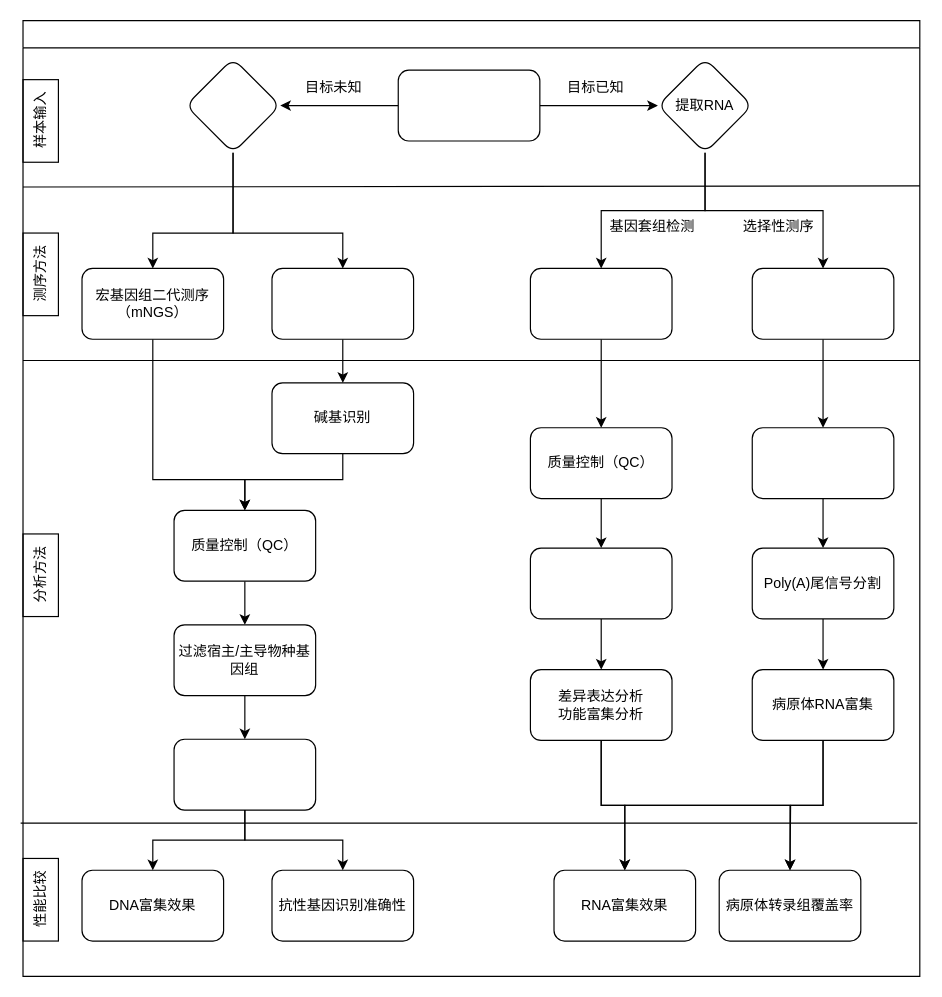
The diagram is 942 pixels wide and 997 high, and some of its shapes have lost their labels. Here are the shapes that lost their labels. From the top down, the box of each, then its label:
(185, 57, 280, 153): 提取DNA
(397, 69, 540, 141): 待测样本
(271, 267, 414, 339): 宏基因组三代测序 （mTGS）
(529, 267, 672, 339): 宏转录组二代测序 （mtNGS）
(751, 267, 894, 339): 宏转录组三代测序 （mtTGS）
(751, 427, 894, 499): 基于t-SNE进行信号分类
(529, 547, 672, 619): 序列比对注释
(173, 738, 316, 810): 注释物种并建立图谱
